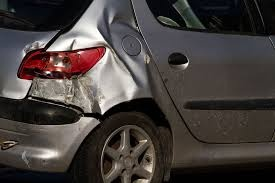Broken-glass: (21, 49, 90, 78)
Dent: (92, 16, 150, 101)
Scratch: (28, 79, 101, 105)
